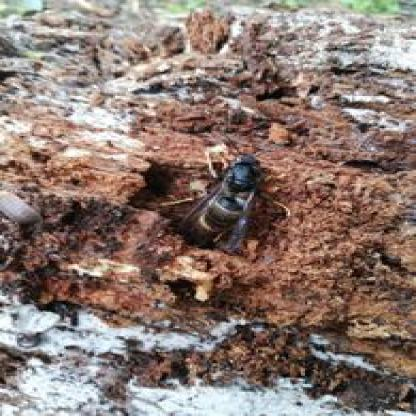Asian Hornet: (190, 141, 283, 256)
